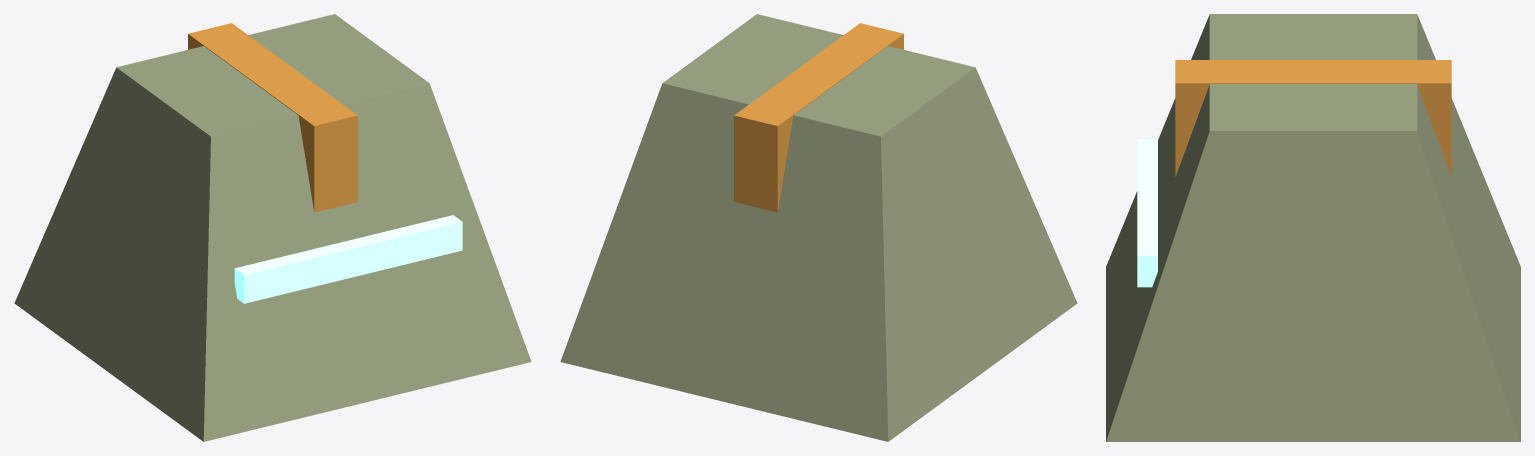
File: mech-hangar-and-battle-frames-armoured-wedge-head-0829c0df__26911.glb
3 views of the same model, side by side, from view 1: azimuth 30°, elevation 25°; view 2: azimuth 150°, elevation 25°; view 3: azimuth 270°, elevation 25° (orthographic). The views are drawn at different scales.
Parts seen in each view (by area): view 1: armoured-wedge-head; view 2: armoured-wedge-head; view 3: armoured-wedge-head.
Part boxes in pixels (left/top/right/bottom): armoured-wedge-head: left=14, top=14, right=531, bottom=441; armoured-wedge-head: left=560, top=14, right=1077, bottom=441; armoured-wedge-head: left=1106, top=14, right=1520, bottom=441.
Bounding box in the file's own units: 0.6 × 0.4512 × 0.6.
